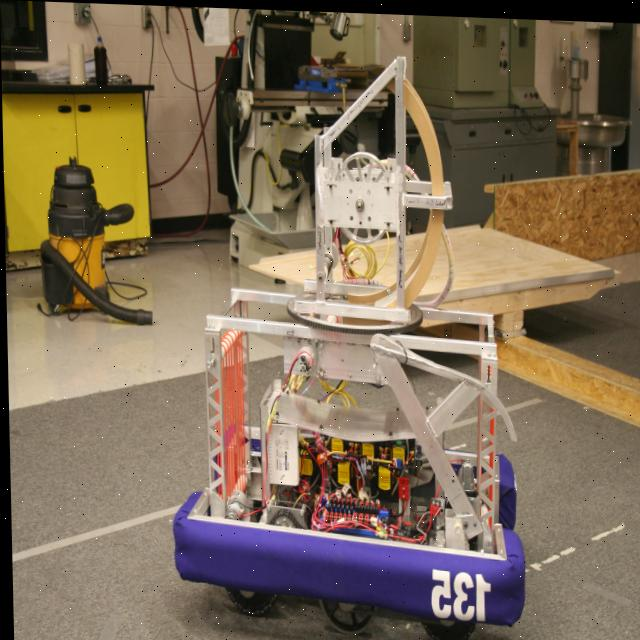robot: (163, 42, 526, 624)
